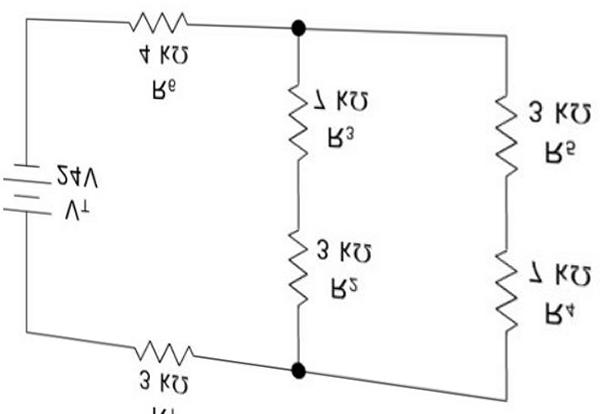resistor: (482, 236, 526, 348), (484, 77, 520, 187), (275, 70, 312, 173), (276, 212, 311, 319), (125, 327, 210, 368), (110, 7, 204, 34)
